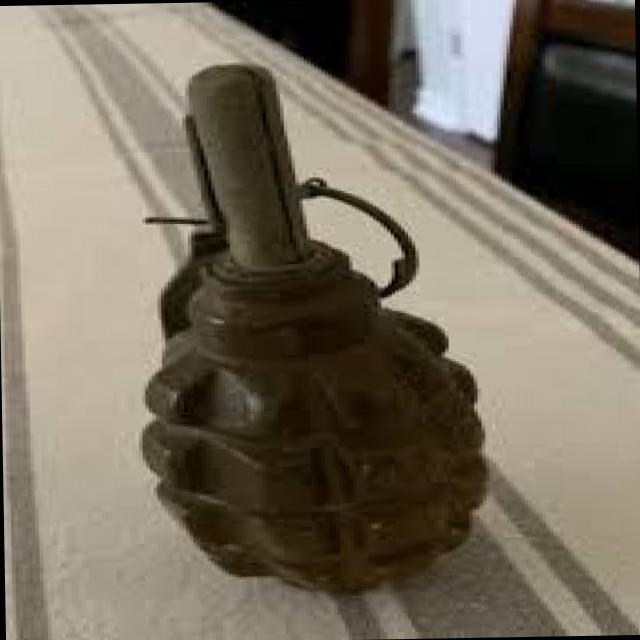grenade: (111, 39, 501, 594)
